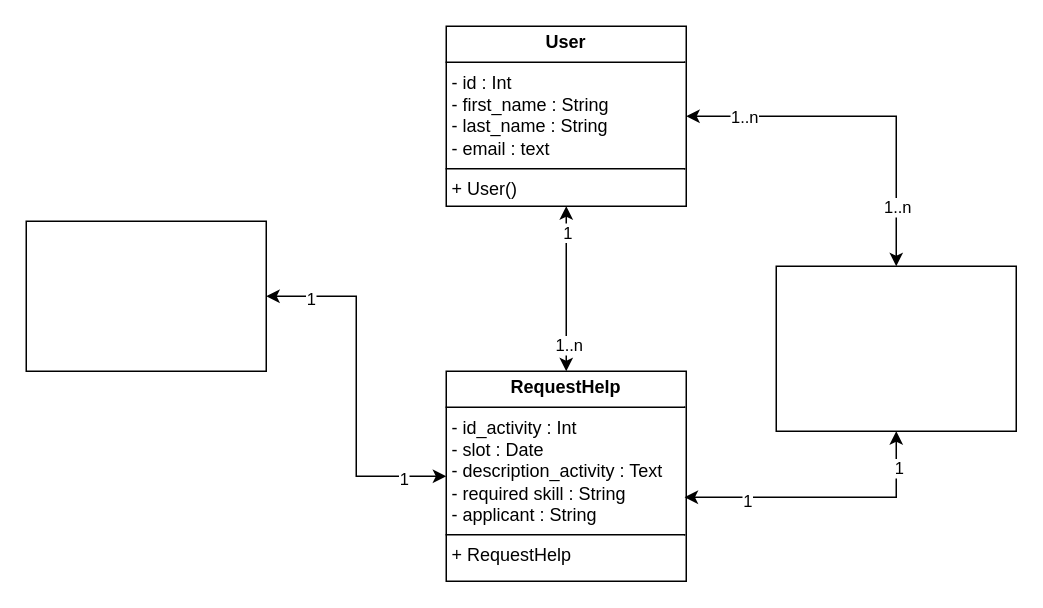
This 1043x608 diagram has some shape labels left out. Each missing label, with the centre of its shape:
"OfferHelp - id : Int - request : Text - helper : String + OfferHelp()" belongs at point 145,295.
"Skill - id : Int - name : String - description : Text + Skills()" belongs at point 895,348.
